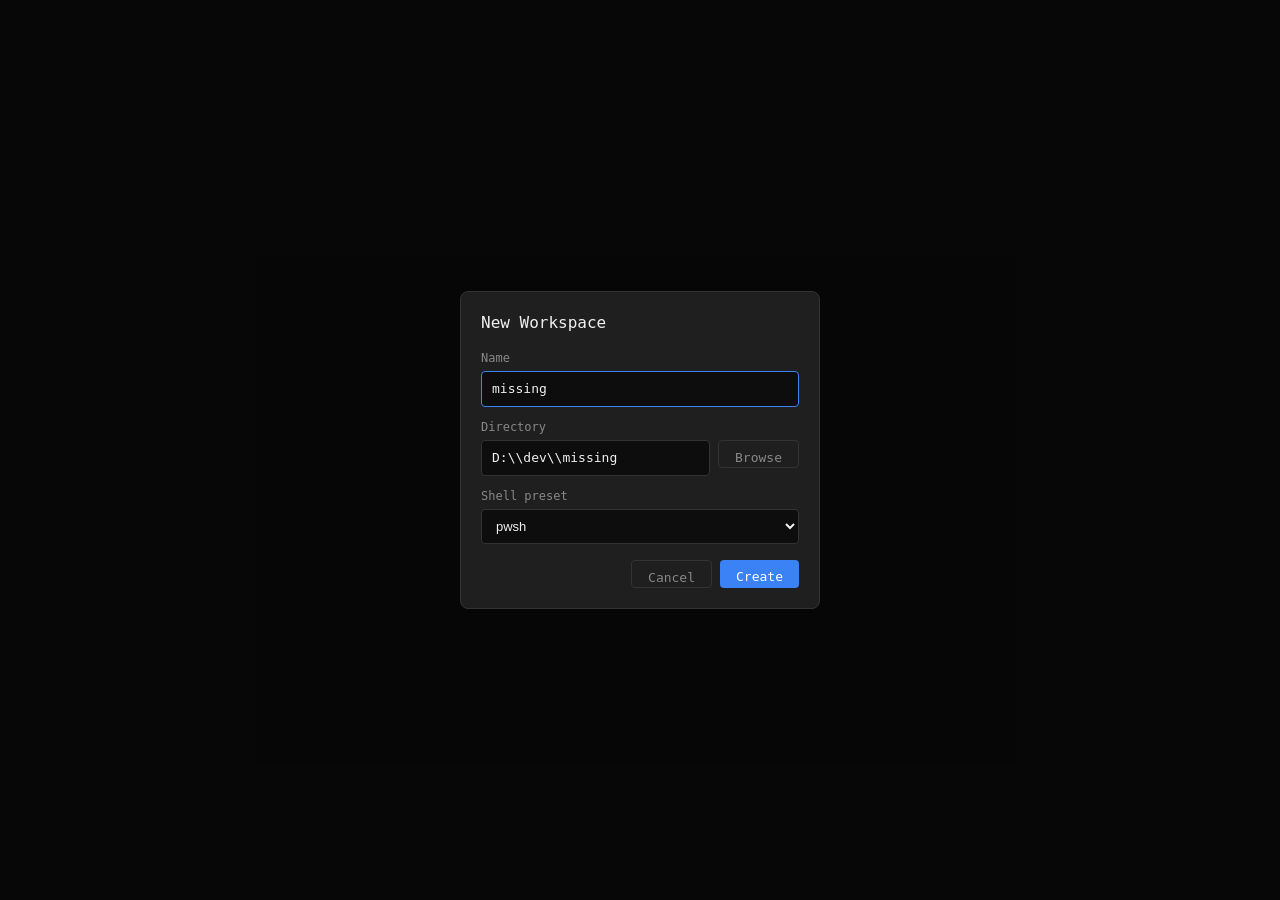
Test: CreateWorkspaceModal › shows a validation error and blocks submit when the directory is missing
Click the button "Create" at (760, 574), box [720,560,799,588]
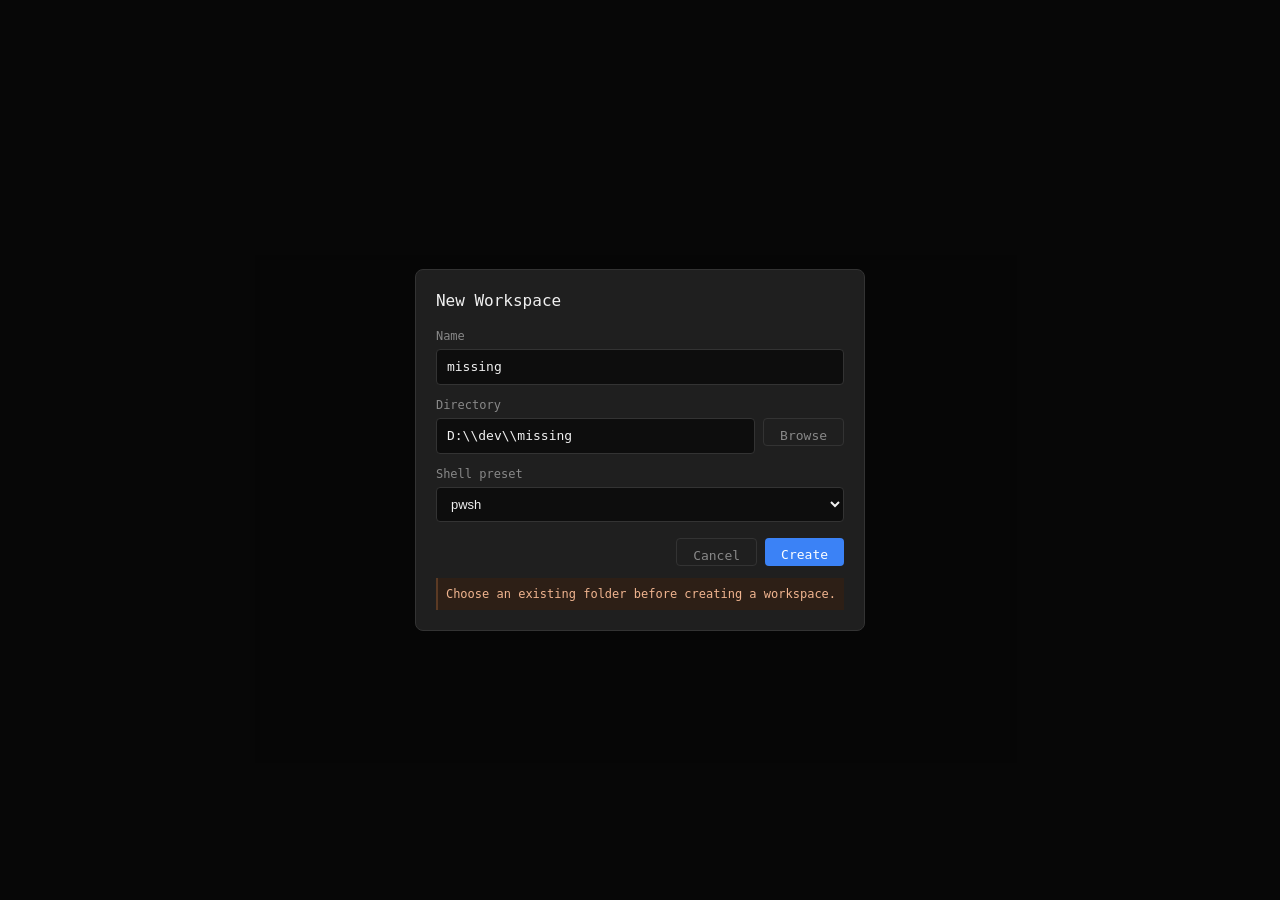
Now the text "Choose an existing folder before creating a workspace." is shown, box [436,578,844,610]
